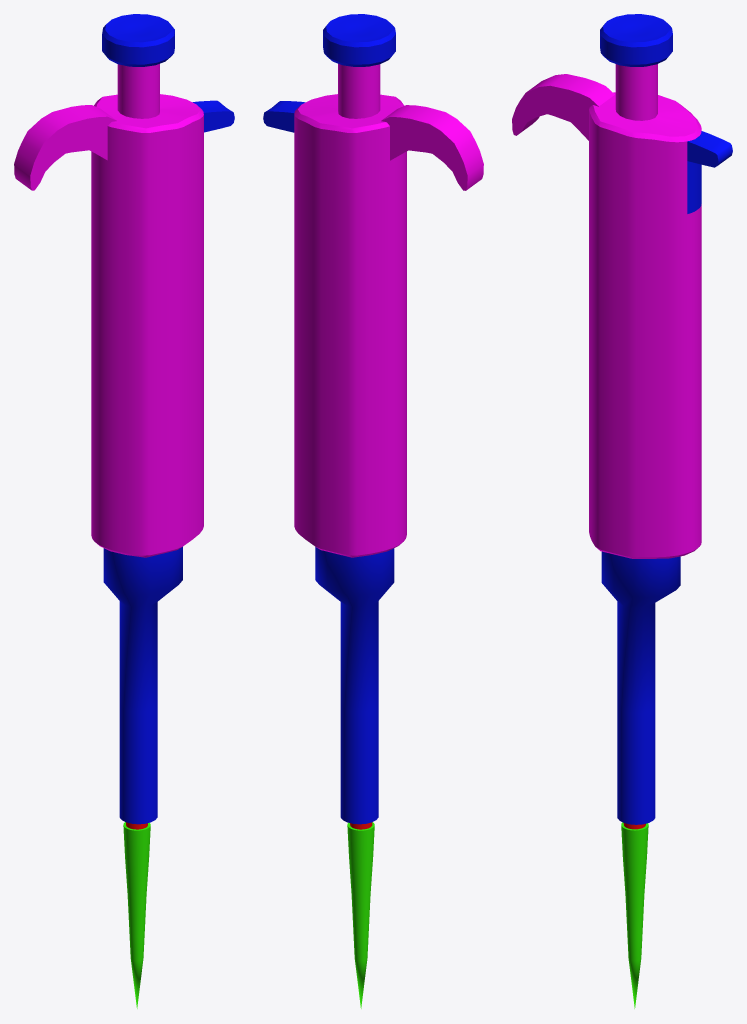
Rendered from PipetForUnity 1.FBX.
3 renders of one model, left to right at view 1: azimuth 30°, elevation 25°; view 2: azimuth 150°, elevation 25°; view 3: azimuth 330°, elevation 25°, orthographic.
Parts seen in each view (by area): view 1: Pipet; view 2: Pipet; view 3: Pipet.
Part boxes in pixels (box(x1,y1,x2,y2)): Pipet: box(14, 14, 234, 1008); Pipet: box(263, 14, 483, 1008); Pipet: box(512, 14, 732, 1008).
Size of the model in its own units: 5.89 by 26.9 by 2.35.
